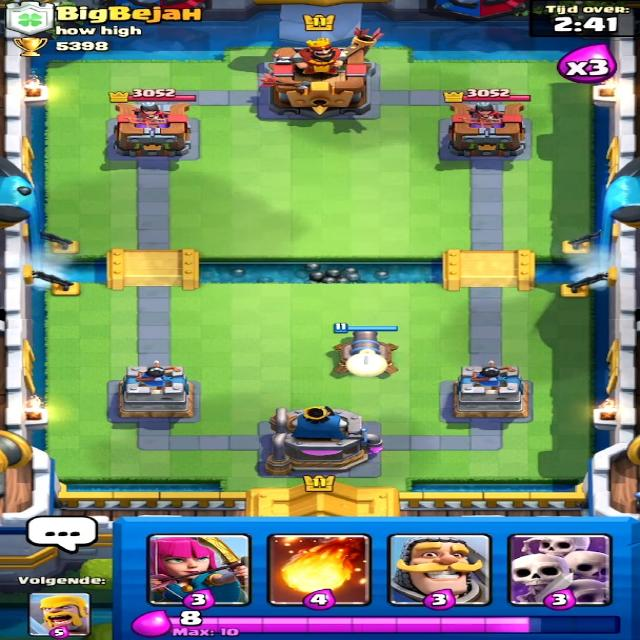Cannon_Troop: (312, 320, 405, 380)
Fireball_Card: (262, 535, 369, 605)
